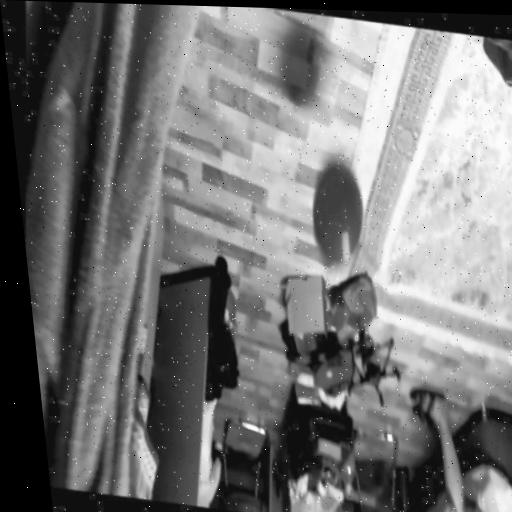balloon: (299, 155, 374, 276)
